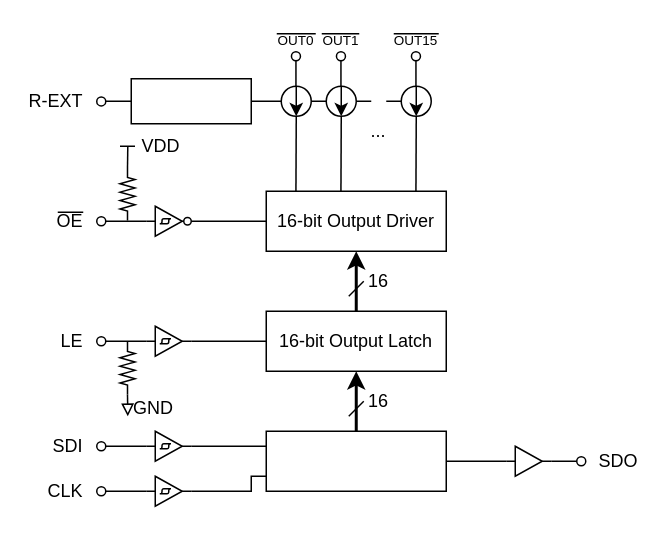
Image size: 666x533. Some labels were removed from this diagram. The shapes that lost their labels are listed below. From the top down, each one's centre as x and y in pixels, then its label:
At (190,100): "Io Regulator".
At (355,460): "16-bit Shift Register".
